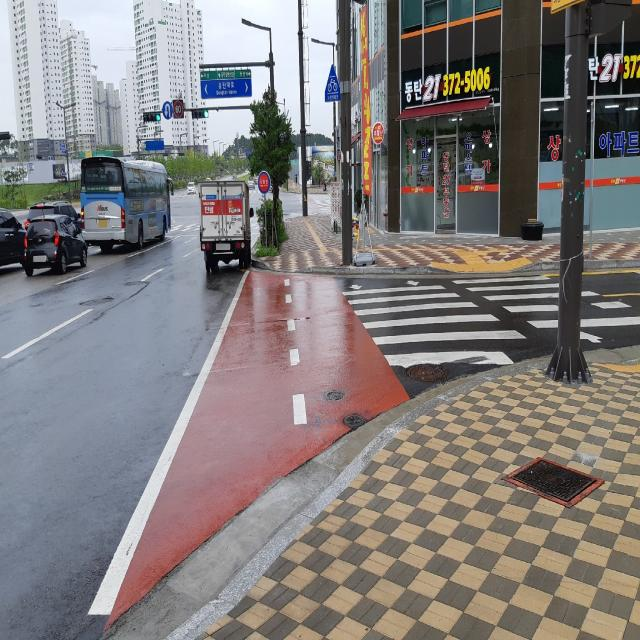횡단보도: (340, 273, 640, 370)
